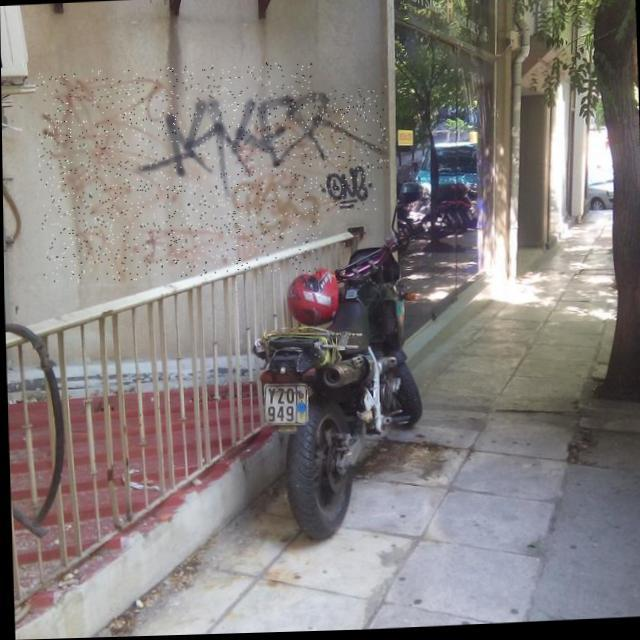-: (34, 62, 321, 284), (138, 88, 388, 180), (316, 164, 376, 214)
